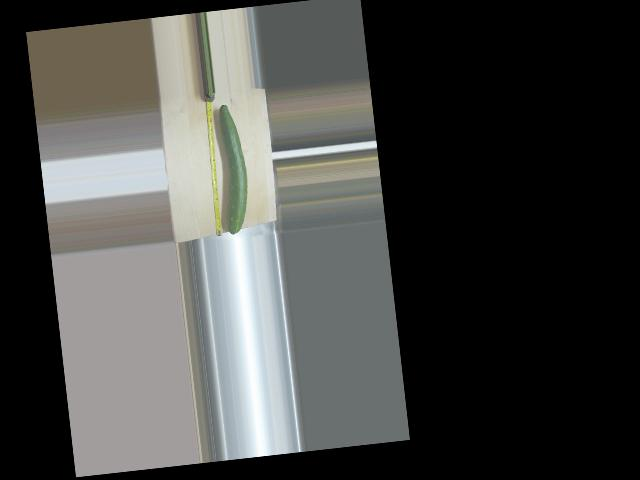cucumber: (213, 103, 252, 235)
